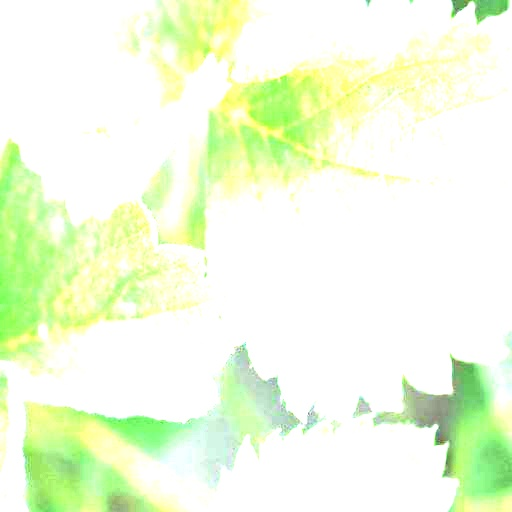Powdery Mildew Leaf: (198, 52, 511, 423), (0, 127, 237, 423), (0, 359, 31, 511)
